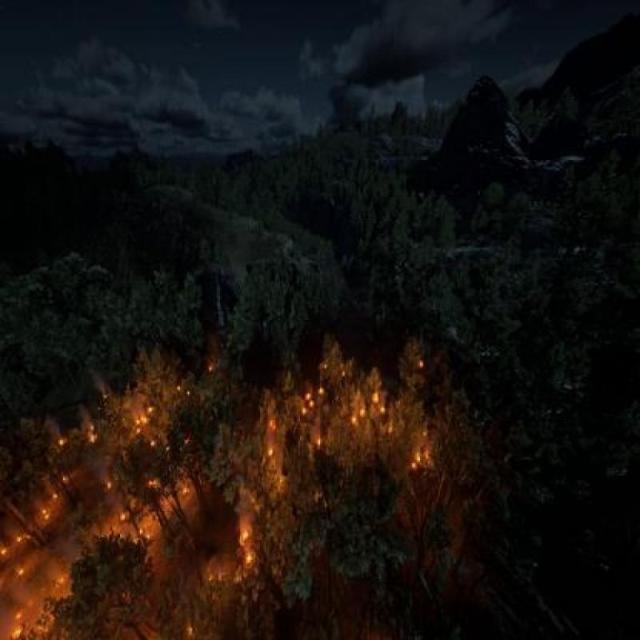Fire: (9, 311, 440, 626)
